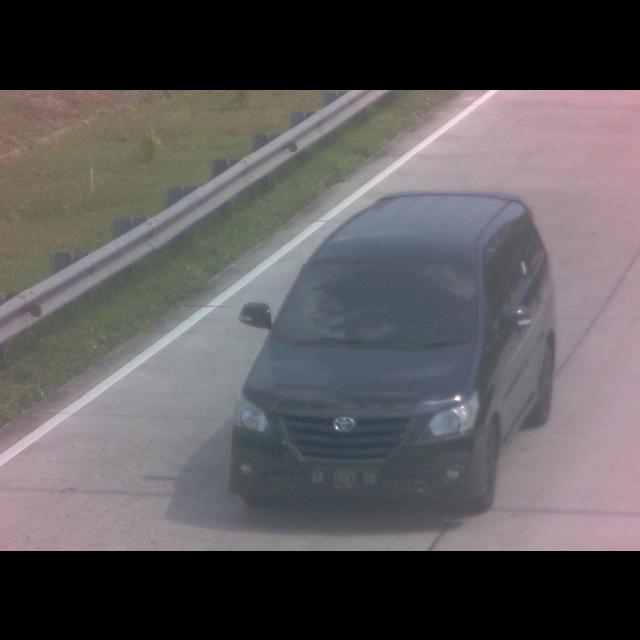plate: (309, 467, 381, 489)
